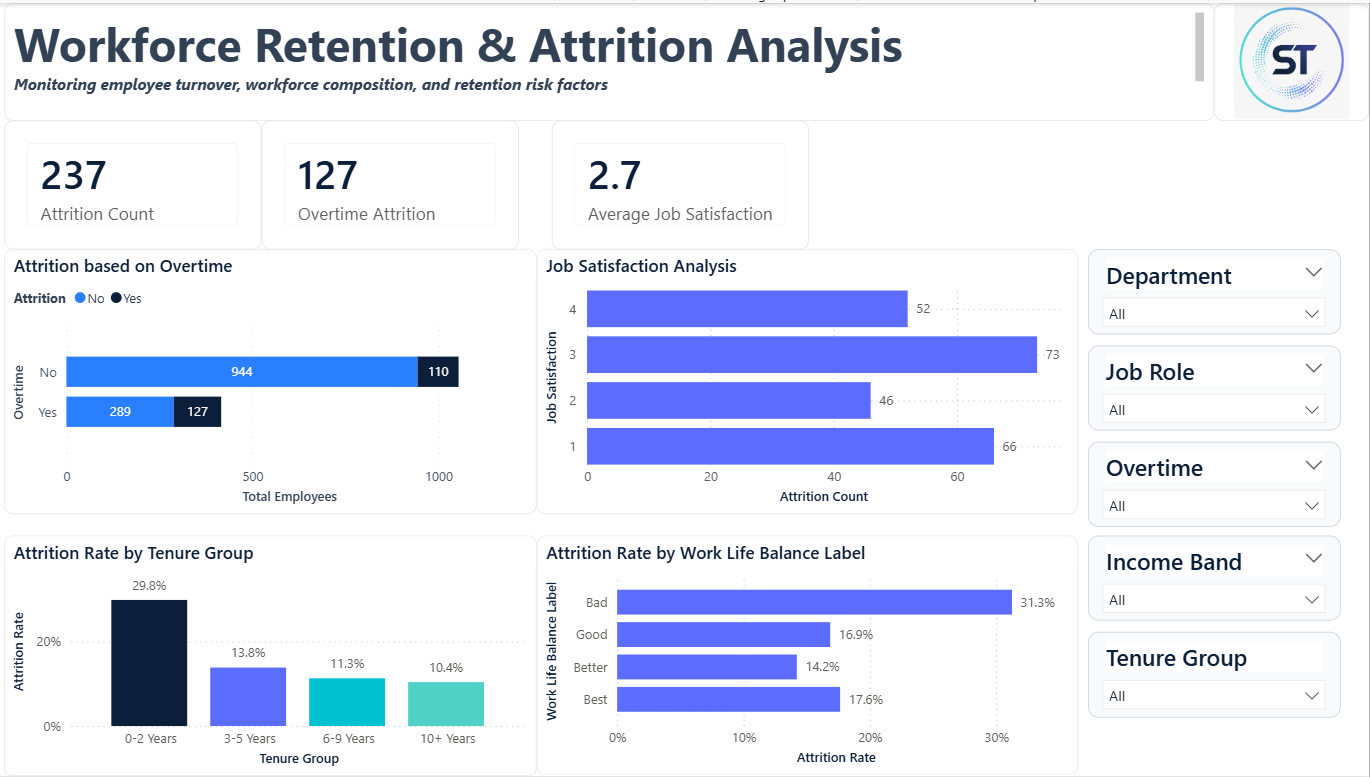

The page's visual inventory and layout, read from the dashboard file:
{"tool":"powerbi","page":{"name":"Attrition Analysis","canvas":[1280,720],"ordinal":1},"visuals":[{"type":"textbox","box":[10.5,0,1125.6,109.3],"z":0},{"type":"image","box":[1135.8,0,144.2,109.3],"z":1000},{"type":"cardVisual","fields":{"Data":["Measures Table.Attrition Count"]},"box":[10.5,109.3,239.5,119.8],"z":2000},{"type":"cardVisual","fields":{"Data":["Measures Table.Overtime by Attrition"]},"box":[250,109.3,239.5,119.8],"z":3000},{"type":"cardVisual","fields":{"Data":["Measures Table.Average Job Satisfaction"]},"box":[519.8,109.3,239.5,119.8],"z":4000},{"type":"barChart","title":"Attrition based on Overtime","fields":{"Category":["Employees.Overtime"],"Y":["Measures Table.Total Employees"],"Series":["Employees.Attrition"]},"box":[10.5,229.1,495.4,246.5],"z":5000},{"type":"clusteredColumnChart","fields":{"Category":["Employees.Tenure Group"],"Y":["Measures Table.Attrition Rate"]},"box":[10.5,495.4,495.4,224.4],"z":6000},{"type":"clusteredBarChart","title":"Job Satisfaction Analysis","fields":{"Y":["Measures Table.Attrition Count"],"Category":["Employees.Job Satisfaction"]},"box":[505.8,229.1,503.5,246.5],"z":7000},{"type":"clusteredBarChart","fields":{"Category":["Employees.Work Life Balance Label"],"Y":["Measures Table.Attrition Rate"]},"box":[505.8,495.4,503.5,223.3],"z":8000},{"type":"slicer","fields":{"Values":["Department.Department"]},"box":[1018.6,229.1,234.9,79.1],"z":9000},{"type":"slicer","fields":{"Values":["Job Role.Job Role"]},"box":[1018.6,318.6,234.9,79.1],"z":10000},{"type":"slicer","fields":{"Values":["Employees.Overtime"]},"box":[1018.6,408.1,234.9,79.1],"z":11000},{"type":"slicer","fields":{"Values":["Employees.Income Band"]},"box":[1018.6,495.4,234.9,79.1],"z":12000},{"type":"slicer","fields":{"Values":["Employees.Tenure Group"]},"box":[1018.6,584.9,234.9,80.2],"z":13000}]}

Visuals, with their boxes in screenshot pixels (x1, y1, x2, y2), scaled from the page's 1280x720 canvas onto the 1370x777 screenshot:
textbox: detection(11, 0, 1216, 118)
image: detection(1216, 0, 1369, 118)
cardVisual - Measures Table.Attrition Count: detection(11, 118, 268, 247)
cardVisual - Measures Table.Overtime by Attrition: detection(268, 118, 524, 247)
cardVisual - Measures Table.Average Job Satisfaction: detection(556, 118, 813, 247)
"Attrition based on Overtime" barChart: detection(11, 247, 541, 513)
clusteredColumnChart - Employees.Tenure Group x Measures Table.Attrition Rate: detection(11, 535, 541, 776)
"Job Satisfaction Analysis" clusteredBarChart: detection(541, 247, 1080, 513)
clusteredBarChart - Employees.Work Life Balance Label x Measures Table.Attrition Rate: detection(541, 535, 1080, 776)
slicer - Department.Department: detection(1090, 247, 1342, 333)
slicer - Job Role.Job Role: detection(1090, 344, 1342, 429)
slicer - Employees.Overtime: detection(1090, 440, 1342, 526)
slicer - Employees.Income Band: detection(1090, 535, 1342, 620)
slicer - Employees.Tenure Group: detection(1090, 631, 1342, 718)
